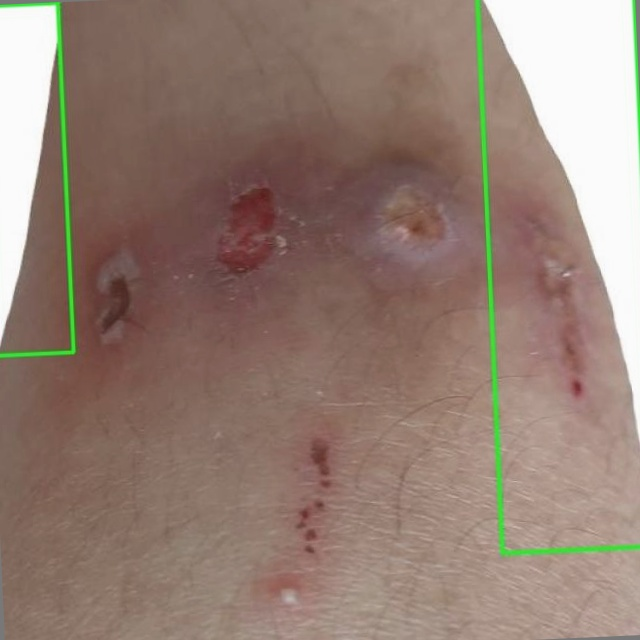Contact Dermatitis: (477, 0, 639, 553), (0, 2, 73, 355)
